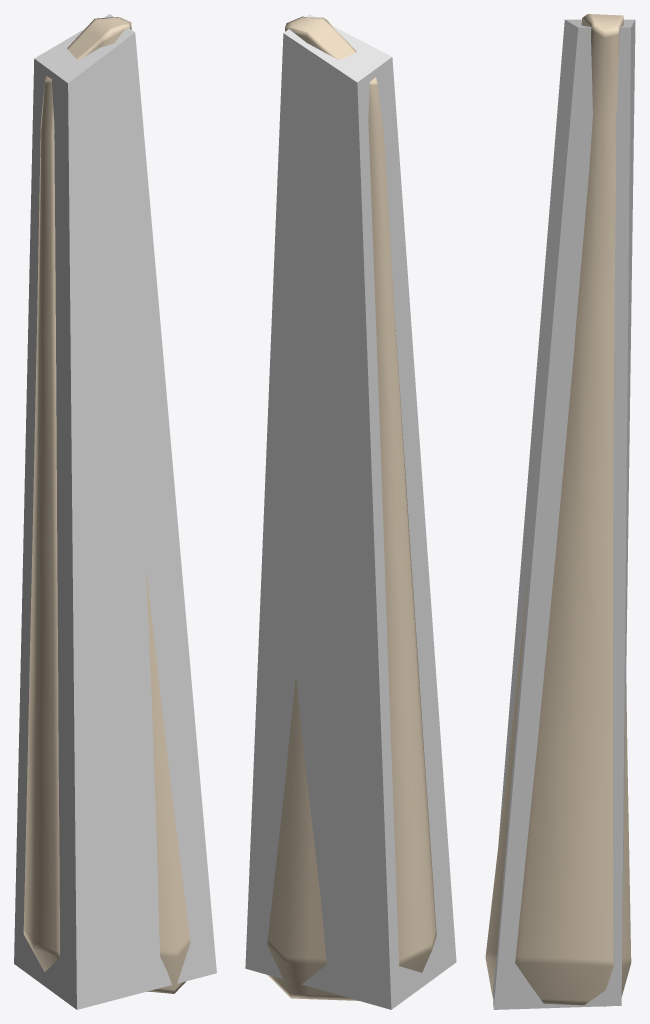
Rendered from wood_B.fbx.
The picture shows the model from 3 angles, left to right: view 1: azimuth 30°, elevation 25°; view 2: azimuth 150°, elevation 25°; view 3: azimuth 270°, elevation 25°; orthographic projection. The views are drawn at different scales.
Visible parts, largest first — view 1: c_wood_B, wood_B; view 2: c_wood_B, wood_B; view 3: wood_B, c_wood_B.
Part boxes in pixels (<box>): c_wood_B: <box>14,14,216,1009</box>; wood_B: <box>23,17,190,993</box>; c_wood_B: <box>245,14,456,1009</box>; wood_B: <box>247,16,436,1000</box>; wood_B: <box>485,14,631,1006</box>; c_wood_B: <box>493,19,635,1009</box>.
Size of the model in its own units: 7.66 by 41.89 by 5.8.
